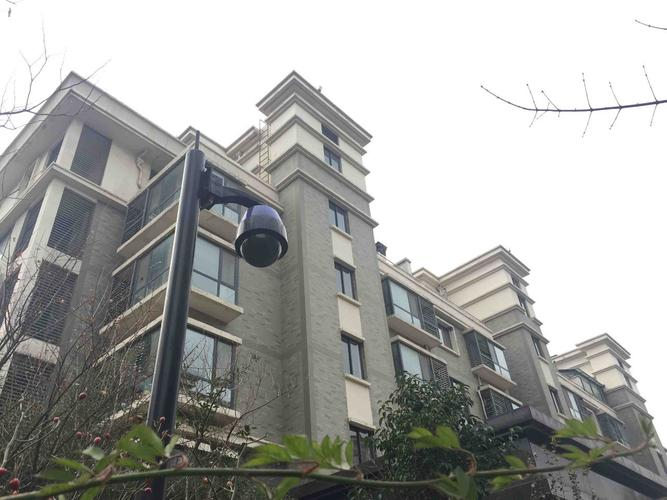camera: (231, 208, 291, 268)
